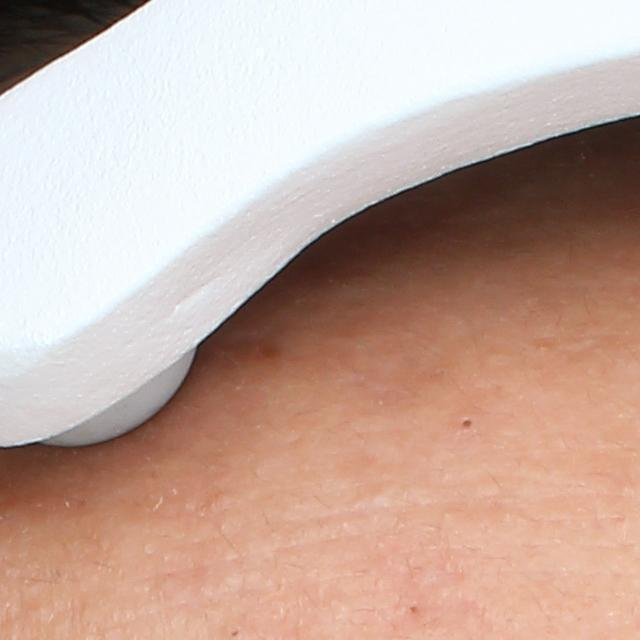comedo: (449, 412, 480, 437), (401, 600, 426, 625)
